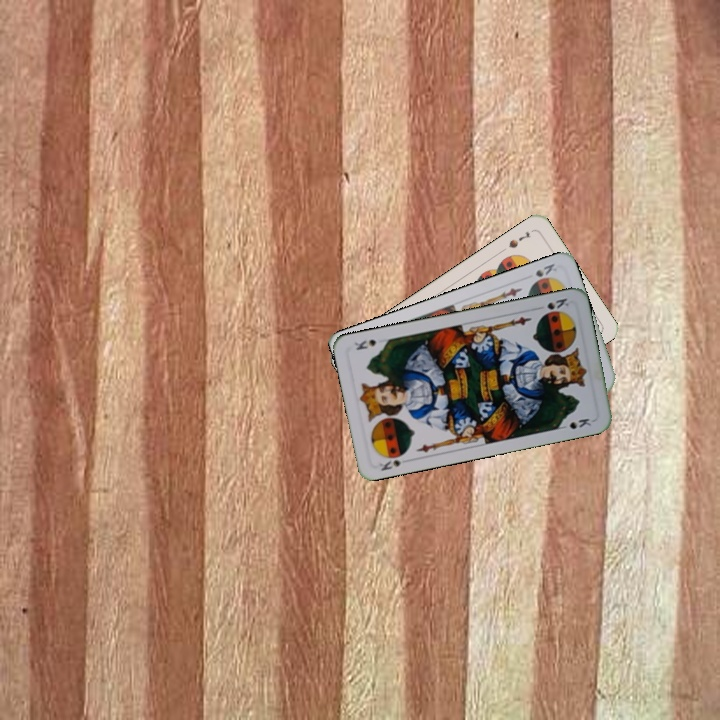S7: (505, 227, 534, 251)
SK: (532, 294, 571, 312), (531, 259, 560, 280), (373, 456, 404, 473)
